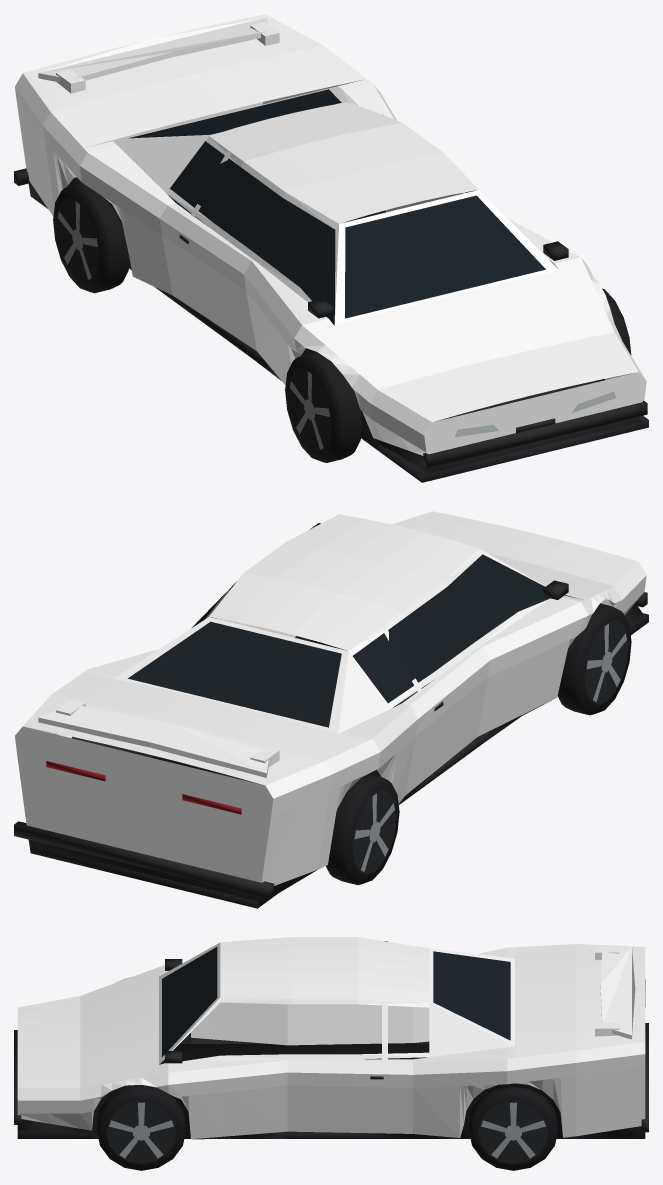
The model's file is vantra_quimera.glb.
The picture shows the model from 3 angles, top to bottom: view 1: azimuth 30°, elevation 25°; view 2: azimuth 150°, elevation 25°; view 3: azimuth 270°, elevation 25°; orthographic projection. The views are drawn at different scales.
Parts seen in each view (by area): view 1: Body_Paint, Body_Details, Mount_FrontLeft_Wheel_Details, Mount_RearLeft_Wheel_Details; view 2: Body_Paint, Body_Details, Mount_RearLeft_Wheel_Details, Mount_FrontLeft_Wheel_Details; view 3: Body_Paint, Body_Details, Mount_FrontRight_Wheel_Details, Mount_RearRight_Wheel_Details.
Part boxes in pixels (bbox=[...]): Body_Paint: bbox=[15, 14, 646, 455]; Body_Details: bbox=[14, 89, 648, 482]; Mount_FrontLeft_Wheel_Details: bbox=[285, 351, 362, 462]; Mount_RearLeft_Wheel_Details: bbox=[53, 182, 129, 293]; Body_Paint: bbox=[15, 511, 646, 885]; Body_Details: bbox=[14, 523, 648, 908]; Mount_RearLeft_Wheel_Details: bbox=[326, 774, 399, 884]; Mount_FrontLeft_Wheel_Details: bbox=[557, 603, 631, 715]; Body_Paint: bbox=[17, 937, 645, 1139]; Body_Details: bbox=[14, 947, 648, 1139]; Mount_FrontRight_Wheel_Details: bbox=[96, 1085, 186, 1170]; Mount_RearRight_Wheel_Details: bbox=[468, 1087, 558, 1170].
Size of the model in its own units: 2.08 by 1.23 by 4.74.
2 materials, 1 textured.
